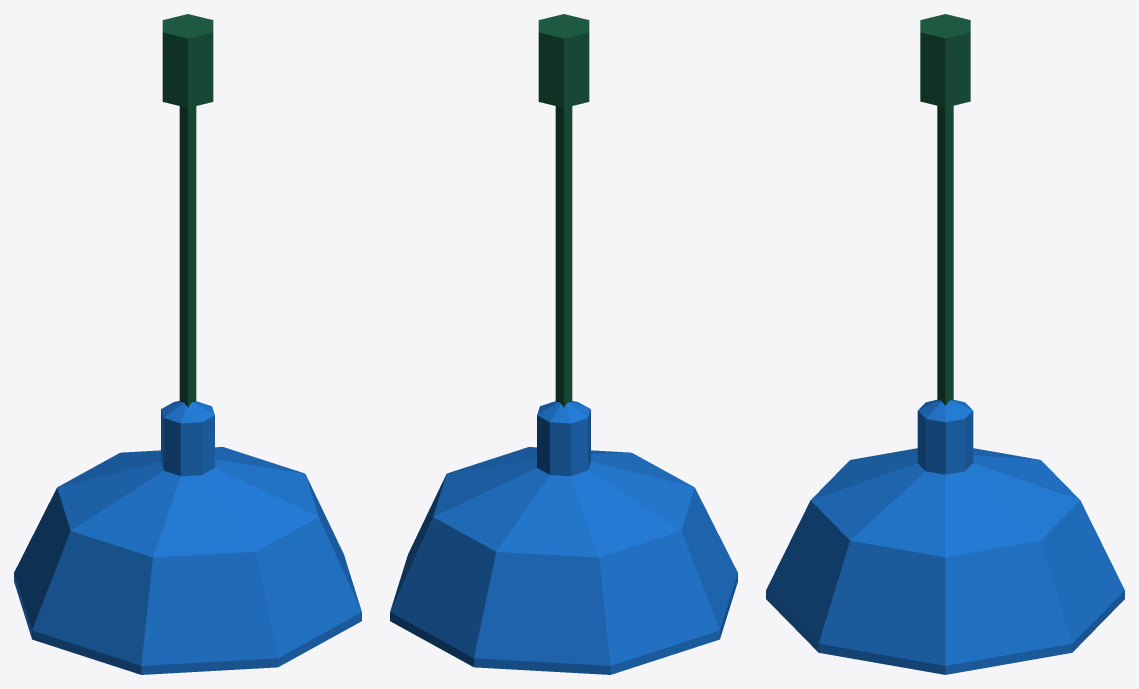
Rendered from T_ceiling_lamp4.fbx.
3 views of the same model, side by side, from view 1: azimuth 30°, elevation 25°; view 2: azimuth 150°, elevation 25°; view 3: azimuth 270°, elevation 25° (orthographic).
Parts seen in each view (by area): view 1: ceiling_lamp4; view 2: ceiling_lamp4; view 3: ceiling_lamp4.
Boxes of the visible parts, x1,y1,x2,y2 form: ceiling_lamp4: [14, 14, 361, 674]; ceiling_lamp4: [390, 14, 737, 674]; ceiling_lamp4: [766, 14, 1124, 674].
Bounding box in the file's own units: 58.17 × 102 × 58.17.
